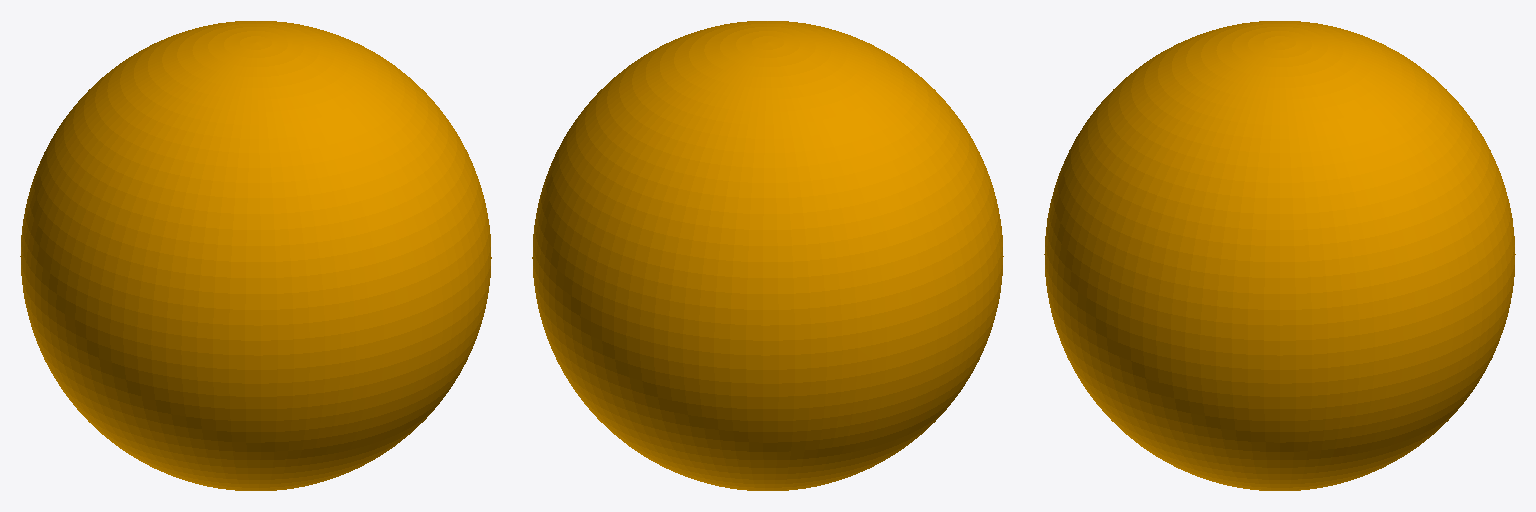
URDF robot description (ball_with_frame):
<?xml version="1.0" ?>
<robot xmlns:xacro="http://www.ros.org/wiki/xacro" name="ball_with_frame">

    <link name="ball">
        <inertial>
            <origin xyz="0.0 0.0 0.0" rpy="0 0 0"/>
            <mass value="0.5"/>
            <inertia ixx="0.002" ixy="0.0" ixz="0.0" iyy="0.002" iyz="0.0" izz="0.002"/>
        </inertial>

        <visual>
            <origin xyz="0.0 0.0 0.0" rpy="0.0 0.0 0.0"/>
            <geometry>
                <mesh filename="./meshes/ball_with_frame/ball_with_frame.obj" scale="1 1 1"/>
            </geometry>
        </visual>

        <collision>
            <origin xyz="0.0 0.0 0.0" rpy="0.0 0.0 0.0"/>
            <geometry>
                <sphere radius="0.1"/>
            </geometry>
        </collision>
    </link>

</robot>

--- Render facts (derived) ---
Views: 3 orthographic renders of the robot side by side, from view 1: azimuth 30°, elevation 25°; view 2: azimuth 150°, elevation 25°; view 3: azimuth 270°, elevation 25°.
Robot: ball_with_frame — 1 links, 0 joints (none); root link ball; default pose: all joints at 0.
Links seen in each view (by area): view 1: ball; view 2: ball; view 3: ball.
Link boxes in pixels (box(x1,y1,x2,y2)): ball: box(20, 21, 491, 490); ball: box(532, 21, 1003, 490); ball: box(1044, 21, 1515, 490).
Size in the robot's own frame: 0.1999 by 0.2 by 0.2 metres.
Meshes: 1 distinct files referenced, 1 mesh visuals loaded (1 OBJ).
